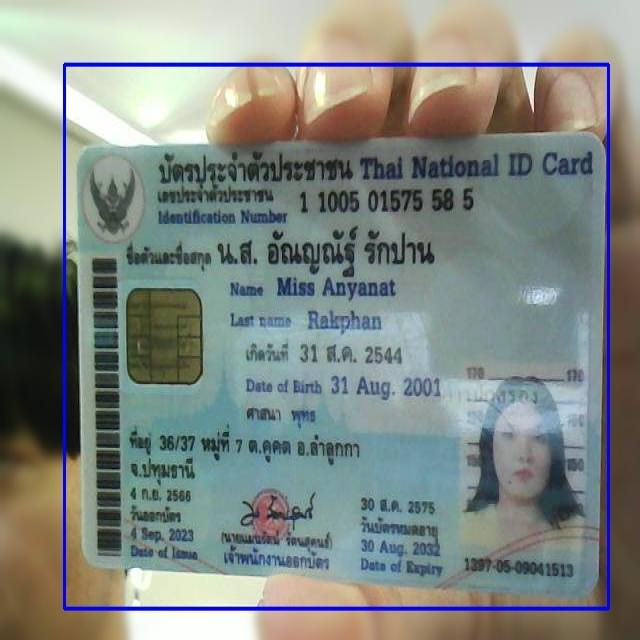Address_th: (127, 419, 377, 488)
Date_of_Birth: (329, 372, 443, 403)
Date_of_Expiry: (356, 538, 444, 561)
Date_of_Issue: (125, 523, 197, 547)
First_Name: (274, 273, 398, 305)
ID_Number: (296, 184, 478, 218)
Image: (461, 359, 584, 557)
Last_Name: (303, 306, 383, 337)
Thai_Name: (214, 224, 448, 278)
